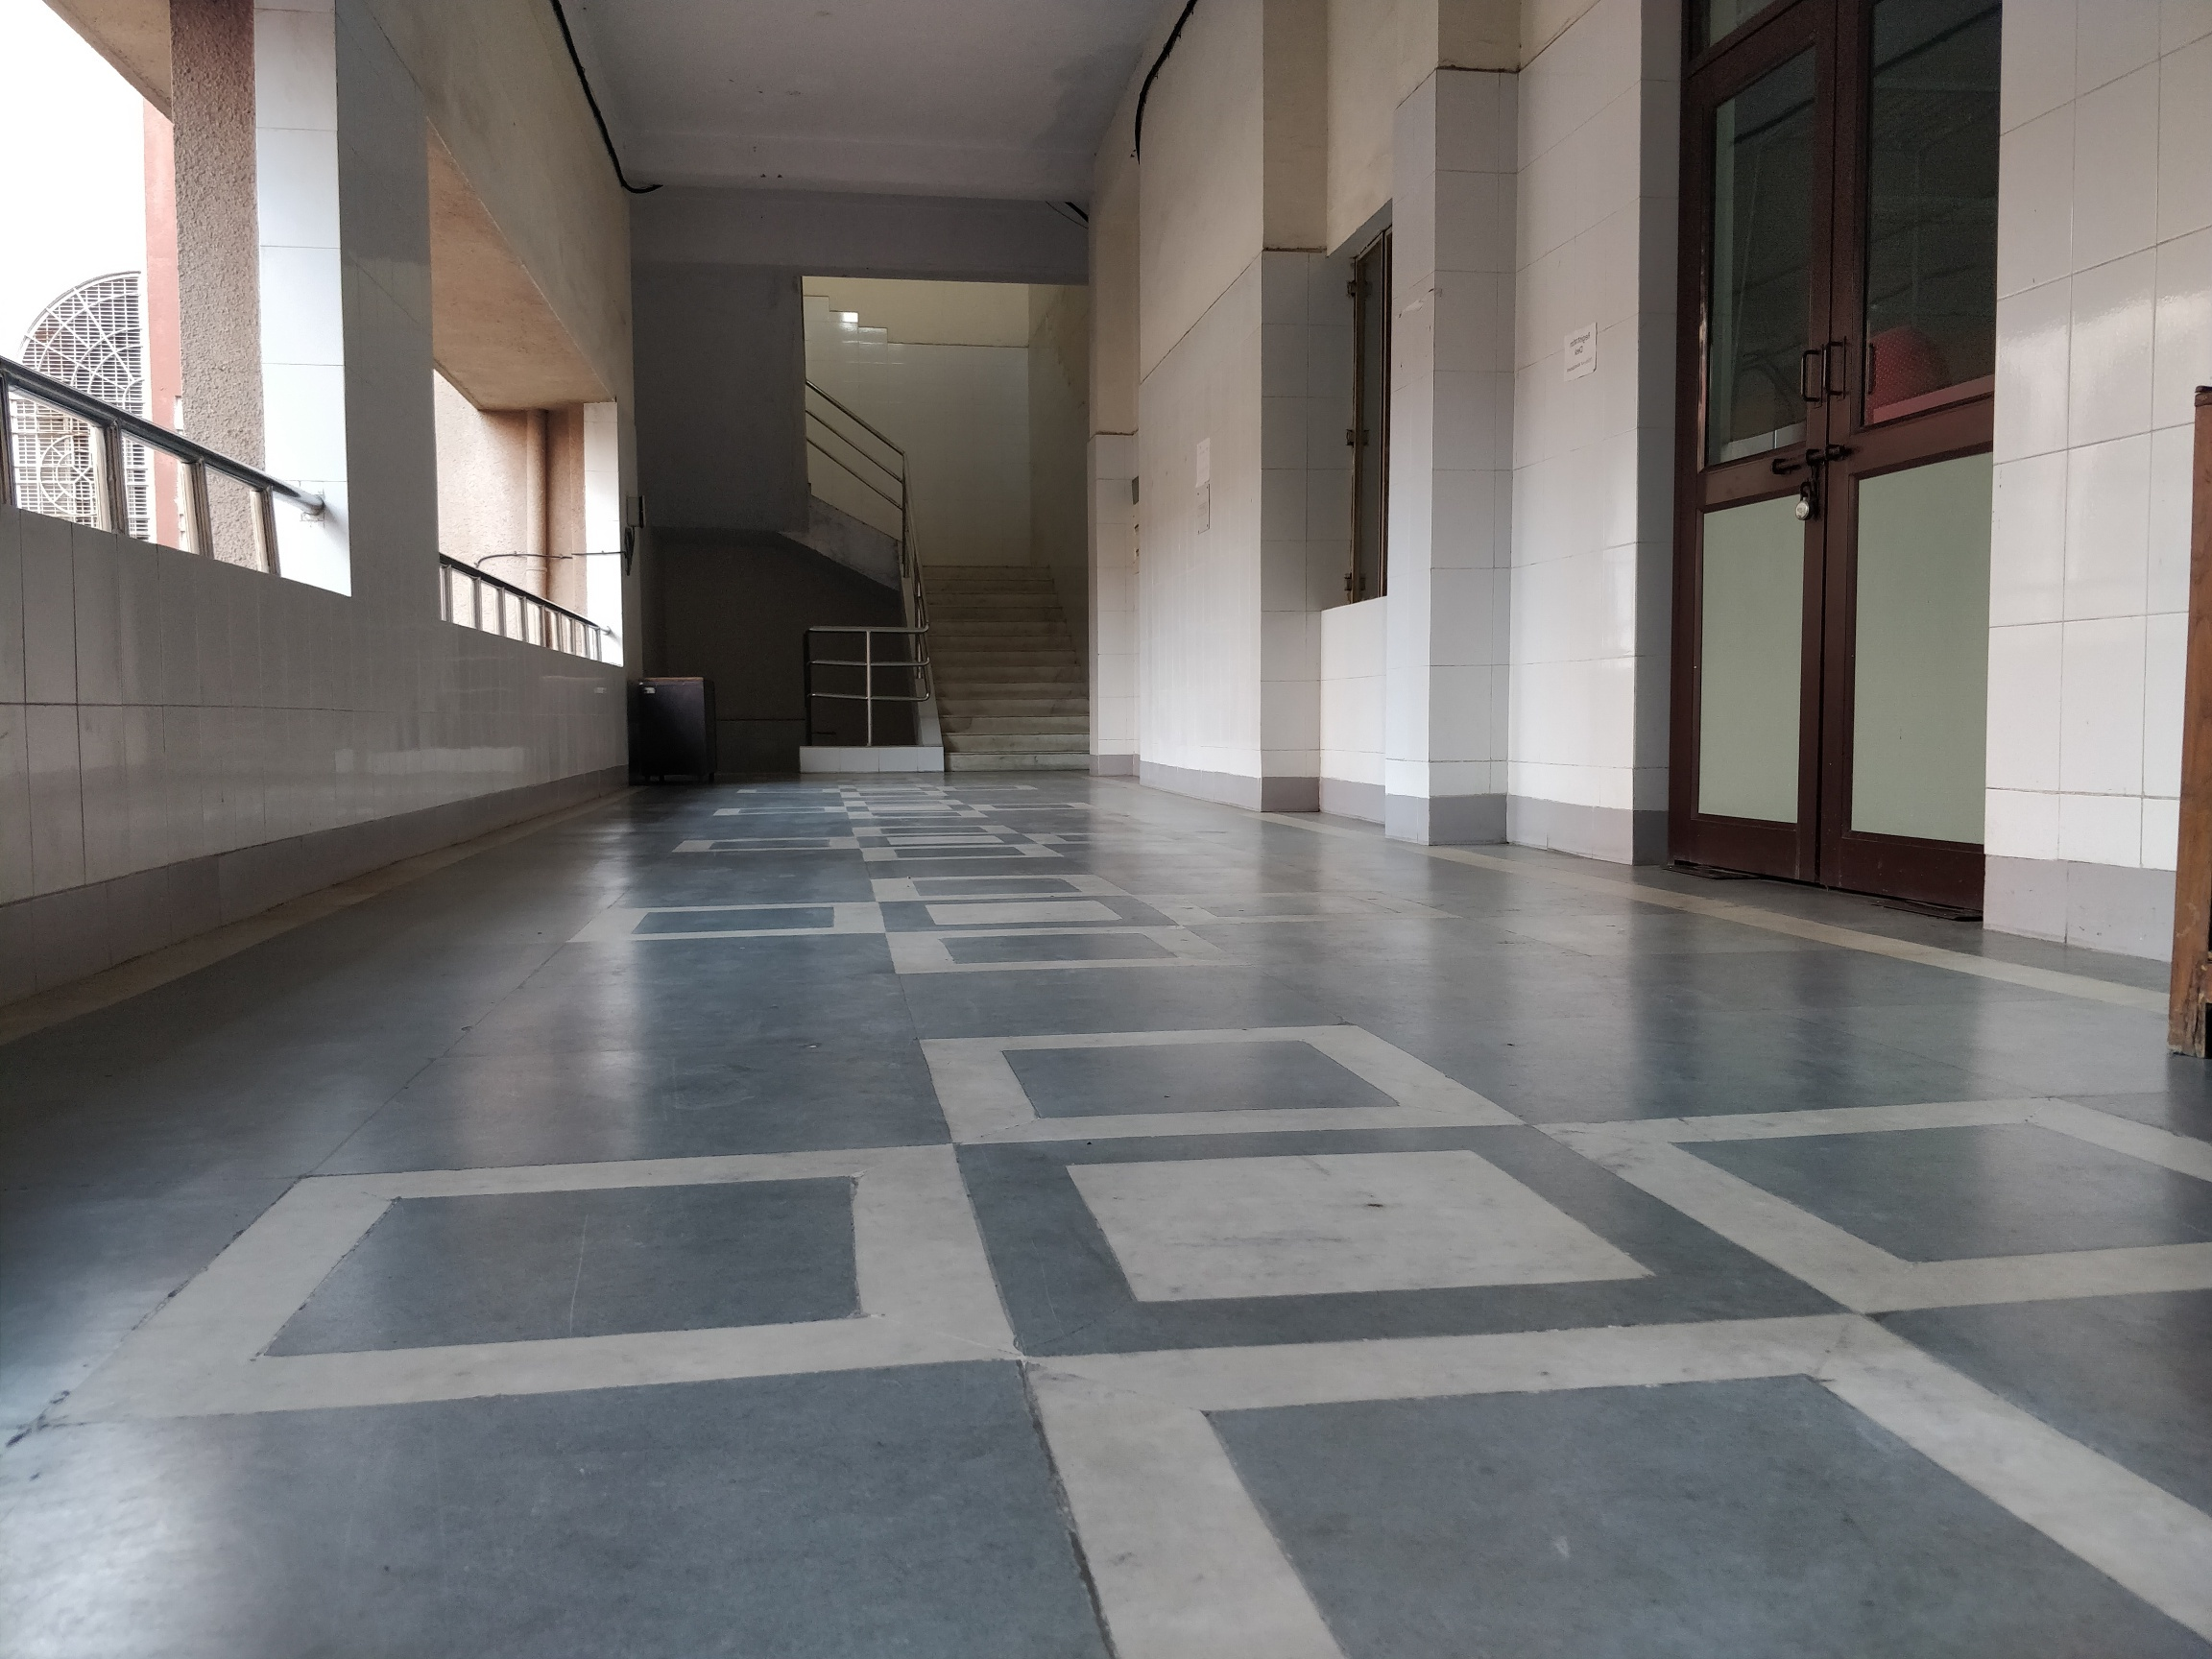stairs_up: (907, 532, 1111, 779)
